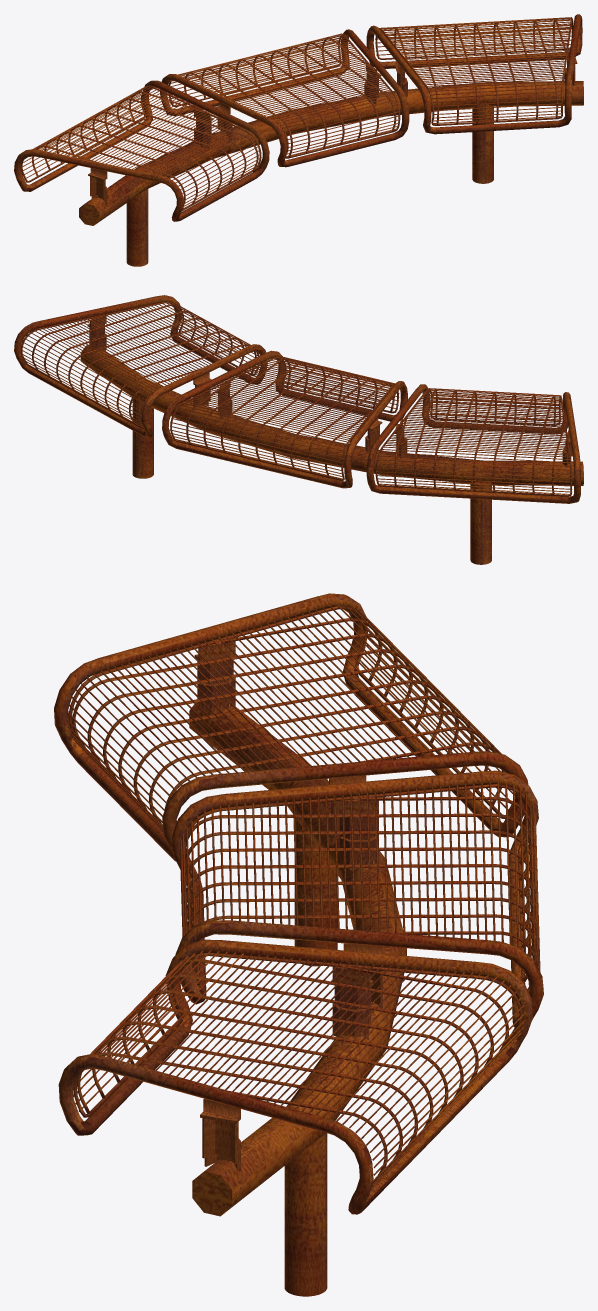
3 renders of one model, top to bottom at view 1: azimuth 30°, elevation 25°; view 2: azimuth 150°, elevation 25°; view 3: azimuth 270°, elevation 25°, orthographic. The views are drawn at different scales.
Parts seen in each view (by area): view 1: mesh68_mesh68-geometry, mesh192_mesh192-geometry, mesh5_mesh5-geometry, mesh188_mesh188-geometry, mesh10_mesh10-geometry, mesh6_mesh6-geometry, mesh1_mesh1-geometry, mesh7_mesh7-geometry, mesh42_mesh42-geometry, mesh55_mesh55-geometry, mesh22_mesh22-geometry, mesh61_mesh61-geometry (+50 smaller); view 2: mesh68_mesh68-geometry, mesh192_mesh192-geometry, mesh5_mesh5-geometry, mesh188_mesh188-geometry, mesh10_mesh10-geometry, mesh6_mesh6-geometry, mesh7_mesh7-geometry, mesh14_mesh14-geometry, mesh40_mesh40-geometry, mesh46_mesh46-geometry, mesh51_mesh51-geometry, mesh54_mesh54-geometry (+46 smaller); view 3: mesh68_mesh68-geometry, mesh5_mesh5-geometry, mesh192_mesh192-geometry, mesh188_mesh188-geometry, mesh6_mesh6-geometry, mesh7_mesh7-geometry, mesh1_mesh1-geometry, mesh3_mesh3-geometry, mesh186_mesh186-geometry, mesh30_mesh30-geometry, mesh12_mesh12-geometry, mesh22_mesh22-geometry (+41 smaller).
Boxes of the visible parts, <box> form: mesh68_mesh68-geometry: <box>14,14,582,221</box>; mesh192_mesh192-geometry: <box>79,81,583,225</box>; mesh5_mesh5-geometry: <box>44,21,558,205</box>; mesh188_mesh188-geometry: <box>126,104,493,266</box>; mesh10_mesh10-geometry: <box>87,18,573,191</box>; mesh6_mesh6-geometry: <box>21,29,496,210</box>; mesh1_mesh1-geometry: <box>90,57,575,200</box>; mesh7_mesh7-geometry: <box>32,20,566,176</box>; mesh42_mesh42-geometry: <box>45,21,570,151</box>; mesh55_mesh55-geometry: <box>41,20,571,150</box>; mesh22_mesh22-geometry: <box>38,18,571,149</box>; mesh61_mesh61-geometry: <box>49,23,570,151</box>; mesh68_mesh68-geometry: <box>14,295,580,503</box>; mesh192_mesh192-geometry: <box>80,344,583,485</box>; mesh5_mesh5-geometry: <box>44,304,555,494</box>; mesh188_mesh188-geometry: <box>132,398,491,564</box>; mesh10_mesh10-geometry: <box>21,301,495,491</box>; mesh6_mesh6-geometry: <box>86,351,572,496</box>; mesh7_mesh7-geometry: <box>32,314,564,495</box>; mesh14_mesh14-geometry: <box>20,349,572,482</box>; mesh40_mesh40-geometry: <box>22,341,572,474</box>; mesh46_mesh46-geometry: <box>20,345,572,478</box>; mesh51_mesh51-geometry: <box>20,352,572,486</box>; mesh54_mesh54-geometry: <box>21,356,572,489</box>; mesh68_mesh68-geometry: <box>54,593,543,1214</box>; mesh5_mesh5-geometry: <box>72,633,536,1167</box>; mesh192_mesh192-geometry: <box>189,702,406,1216</box>; mesh188_mesh188-geometry: <box>284,818,337,1296</box>; mesh6_mesh6-geometry: <box>68,606,532,1122</box>; mesh7_mesh7-geometry: <box>205,618,536,1182</box>; mesh1_mesh1-geometry: <box>197,660,382,1164</box>; mesh3_mesh3-geometry: <box>199,677,382,1172</box>; mesh186_mesh186-geometry: <box>194,641,382,1123</box>; mesh30_mesh30-geometry: <box>343,603,511,1128</box>; mesh12_mesh12-geometry: <box>355,607,525,1138</box>; mesh22_mesh22-geometry: <box>336,603,503,1124</box>.
Bounding box in the file's own units: 0.9158 × 0.2069 × 0.3443.
